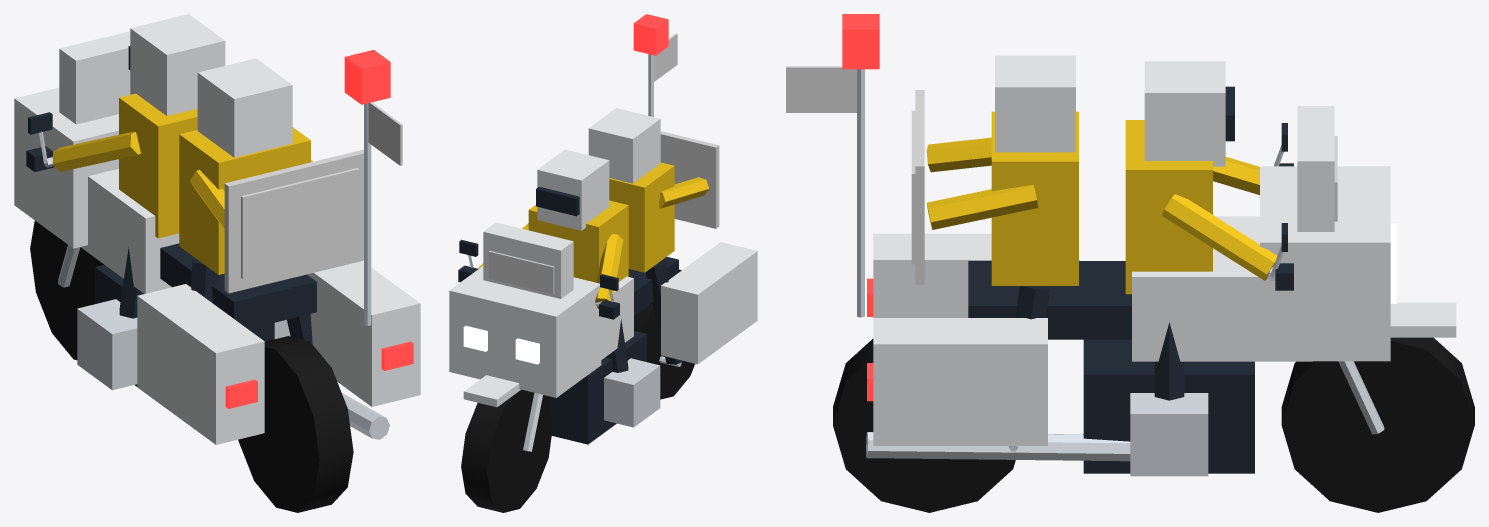
The model's file is vehicle_moto_commissaire.glb.
The picture shows the model from 3 angles, left to right: view 1: azimuth 30°, elevation 25°; view 2: azimuth 150°, elevation 25°; view 3: azimuth 270°, elevation 25°; orthographic projection. The views are drawn at different scales.
Parts seen in each view (by area): view 1: Vehicle_Moto_Commissaire; view 2: Vehicle_Moto_Commissaire; view 3: Vehicle_Moto_Commissaire.
Part boxes in pixels (left/top/right/bottom): Vehicle_Moto_Commissaire: left=14, top=14, right=420, bottom=512; Vehicle_Moto_Commissaire: left=449, top=14, right=757, bottom=512; Vehicle_Moto_Commissaire: left=786, top=14, right=1474, bottom=512.
Bounding box in the file's own units: 0.85 × 1.79 × 2.21.
